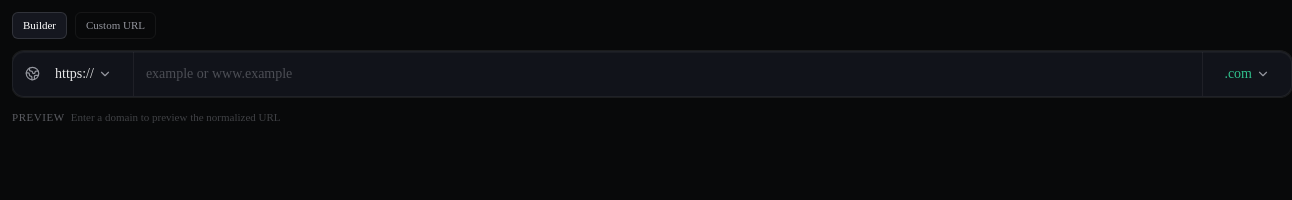
Test case: SmartUrlInput › switches protocol to http
In the dropdown with test id "scan-url-input": (668, 74) 146,64 -> 1190,84, type "example"
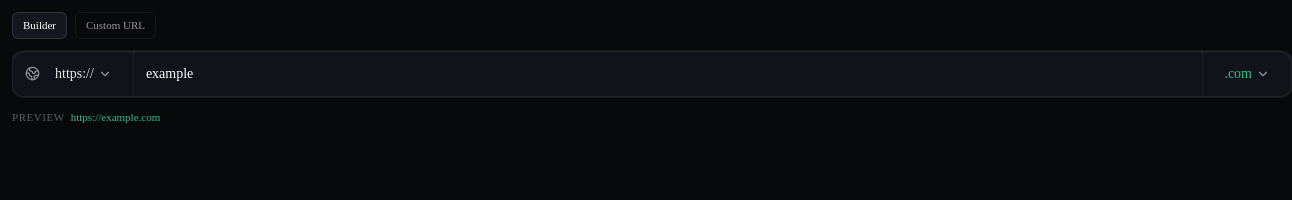
Click the button with test id "url-protocol-select": (83, 74) 46,56 -> 121,90
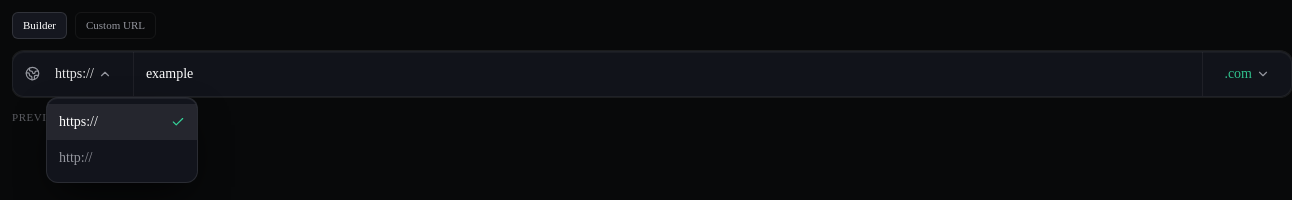
Click the option with test id "url-protocol-select-option-http": (122, 158) 47,140 -> 197,176
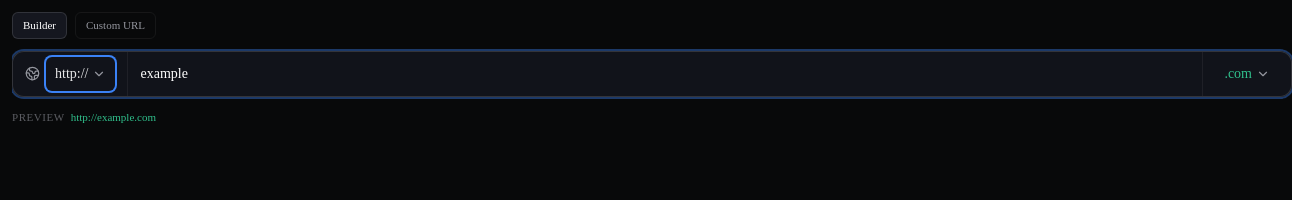
Check: the text "http://example.com" is shown, box 71,110 -> 156,122
